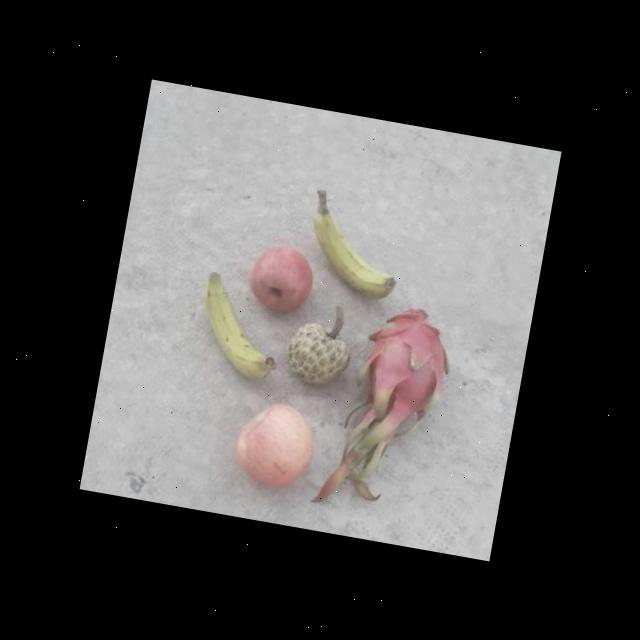Sakya fruit: (278, 316, 358, 388)
apple: (222, 396, 326, 498), (241, 235, 318, 322)
banana: (187, 260, 289, 380), (294, 205, 412, 296)
pitaya: (342, 291, 457, 417)
